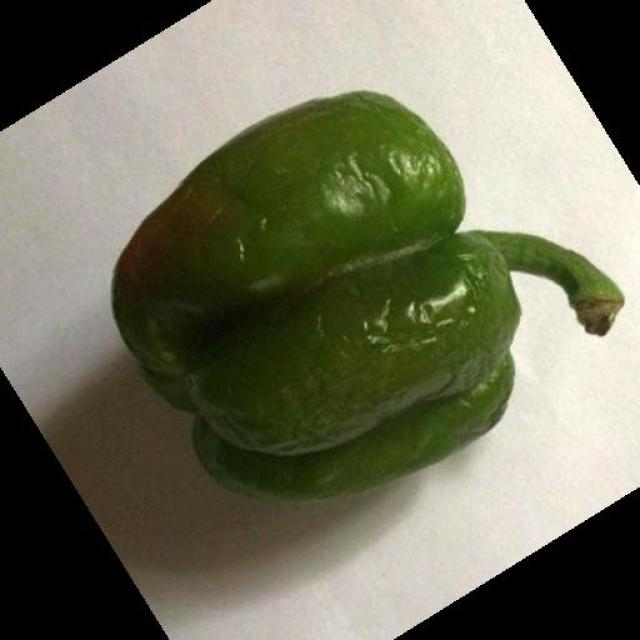Stale_Capsicum: (80, 94, 628, 488)
